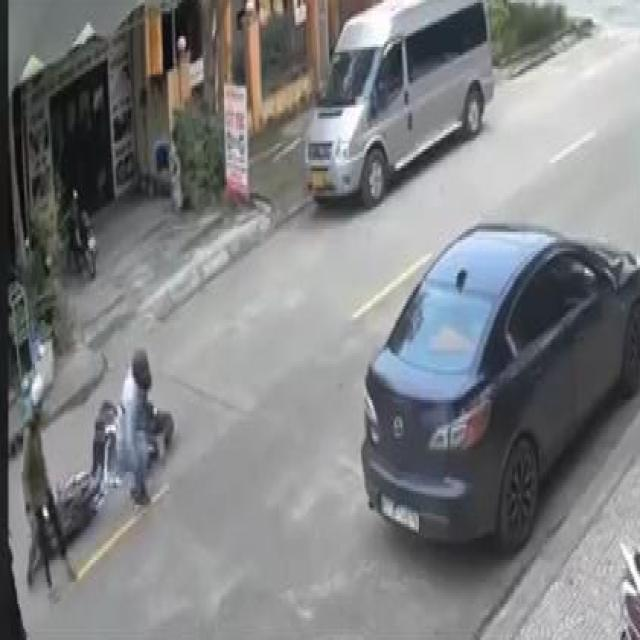accident: (17, 329, 177, 603)
